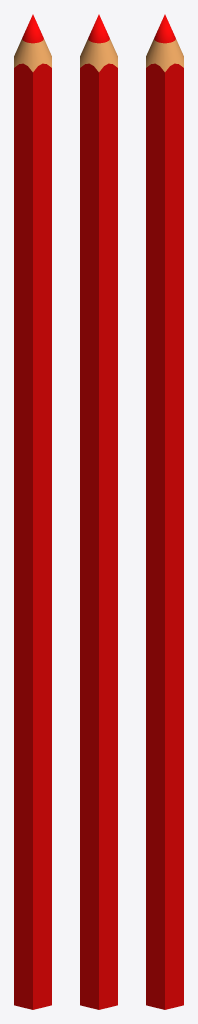
The model's file is potlood-rood.fbx.
3 renders of one model, left to right at view 1: azimuth 30°, elevation 25°; view 2: azimuth 210°, elevation 25°; view 3: azimuth 270°, elevation 25°, orthographic.
Parts seen in each view (by area): view 1: Model; view 2: Model; view 3: Model.
Part boxes in pixels (box(x1,y1,x2,y2)): Model: box(14, 14, 51, 1009); Model: box(80, 14, 117, 1009); Model: box(146, 14, 183, 1009).
Bounding box in the file's own units: 80 × 2000 × 69.28.
